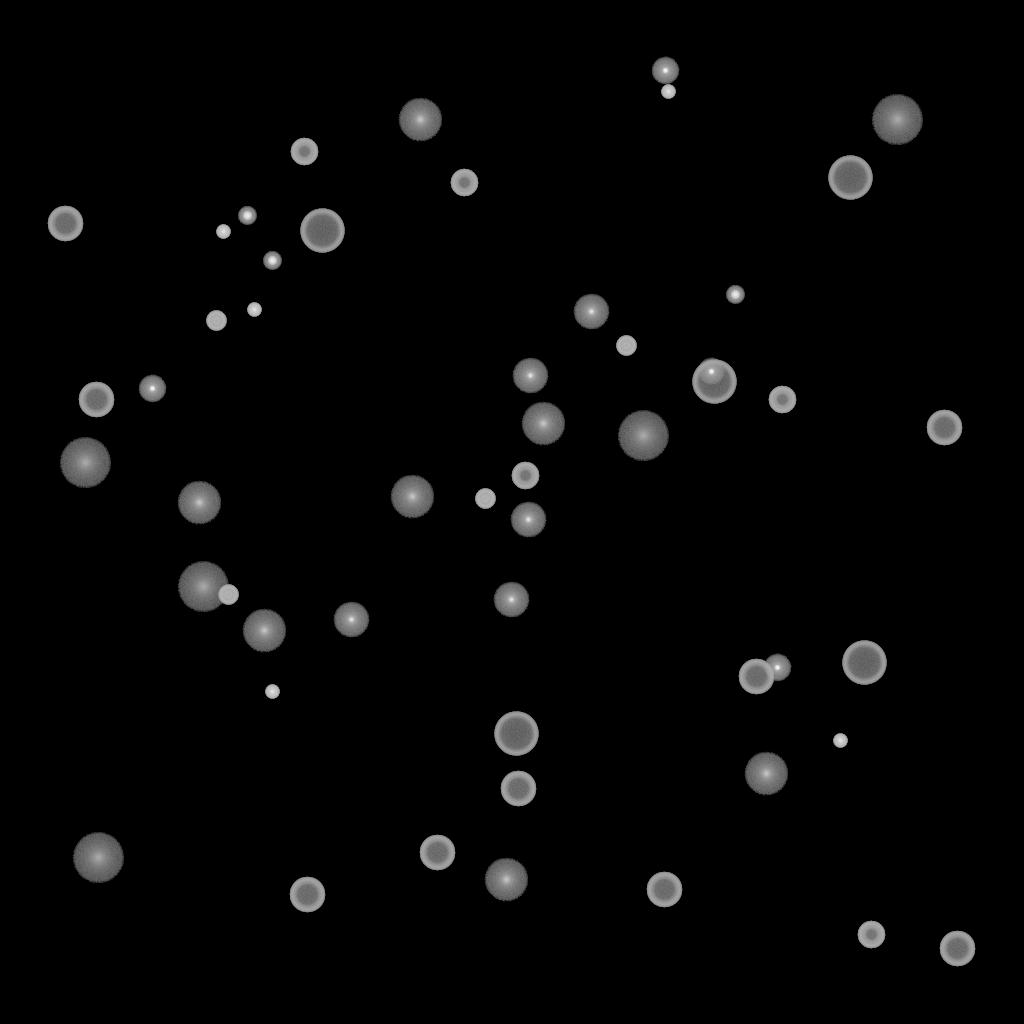depth:-10: (763, 654, 791, 682), (697, 358, 725, 386), (138, 375, 166, 403), (651, 57, 679, 85)
depth:-20: (238, 207, 256, 225), (726, 286, 744, 304), (263, 252, 281, 270)
depth:-30: (247, 303, 261, 317), (265, 685, 279, 699), (216, 225, 230, 239), (661, 85, 675, 99), (833, 734, 847, 748)
depth:-40: (218, 585, 238, 605), (616, 336, 636, 356), (475, 489, 495, 509), (206, 311, 226, 331)
depth:-50: (857, 921, 885, 949), (511, 462, 539, 490), (290, 138, 318, 166), (768, 386, 796, 414), (450, 169, 478, 197)
depth:-60: (738, 659, 774, 695), (78, 382, 114, 418), (939, 931, 975, 967), (926, 410, 962, 446), (47, 206, 83, 242), (646, 872, 682, 908), (419, 835, 455, 871), (289, 877, 325, 913), (500, 771, 536, 807)
depth:-70: (692, 360, 736, 404), (828, 156, 872, 200), (300, 209, 344, 253), (842, 641, 886, 685), (494, 712, 538, 756)
depth:0: (510, 502, 546, 538), (573, 294, 609, 330), (493, 582, 529, 618), (512, 358, 548, 394), (333, 602, 369, 638)
depth:10: (242, 609, 286, 653), (744, 752, 788, 796), (390, 475, 434, 519), (177, 481, 221, 525), (484, 858, 528, 902), (398, 98, 442, 142), (521, 402, 565, 446)
depth:20: (59, 438, 111, 488), (617, 411, 669, 461), (177, 562, 229, 612), (871, 95, 923, 145), (72, 833, 124, 883)
